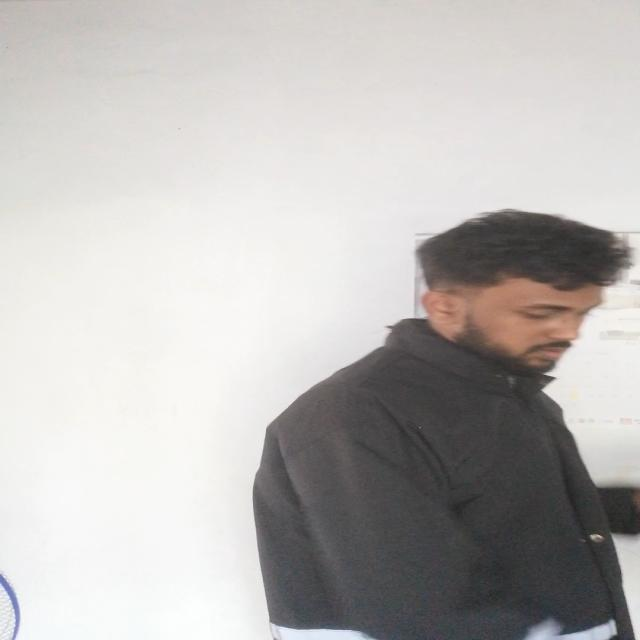Jacket_Wearer: (234, 310, 640, 640)
Person: (256, 205, 640, 640)
